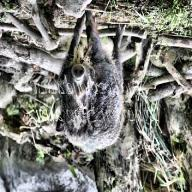boar: (58, 8, 160, 161)
